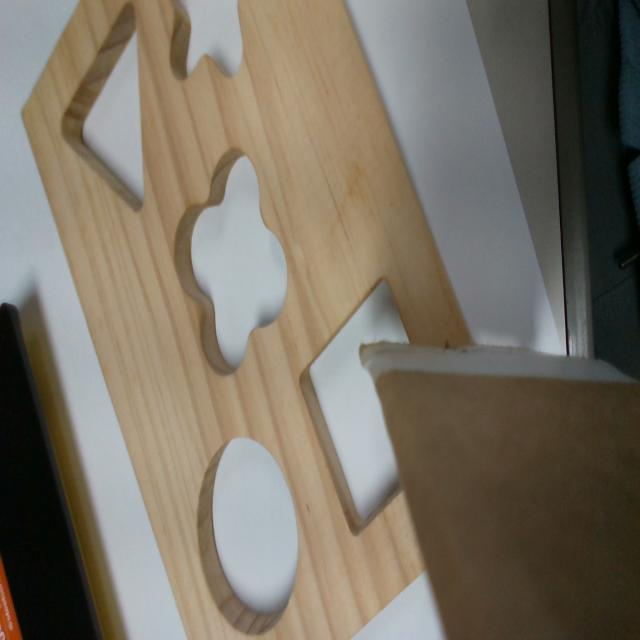circle: (198, 439, 299, 632)
flower: (172, 147, 287, 372)
square: (296, 275, 411, 540)
star: (172, 0, 243, 74)
triangle: (59, 6, 147, 215)
